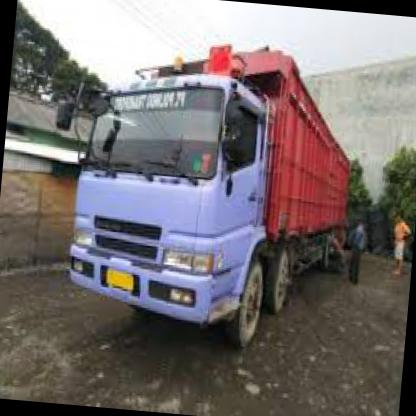truck: (60, 66, 278, 356)
